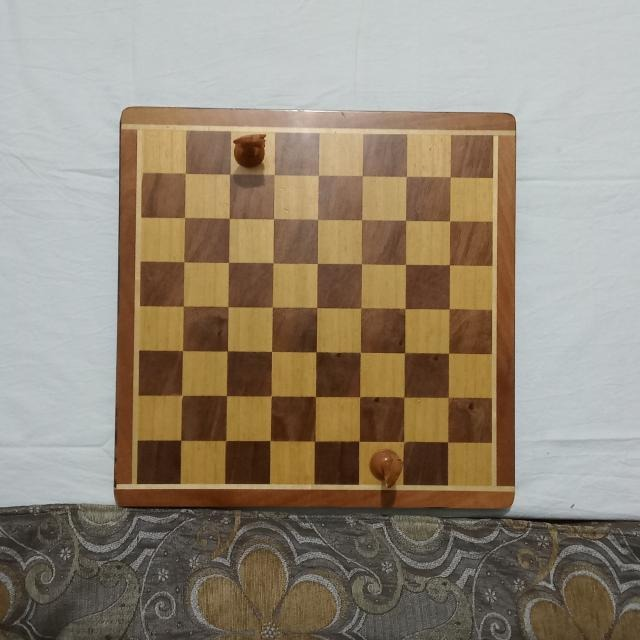white-knight: (369, 447, 405, 489), (232, 129, 268, 171)
